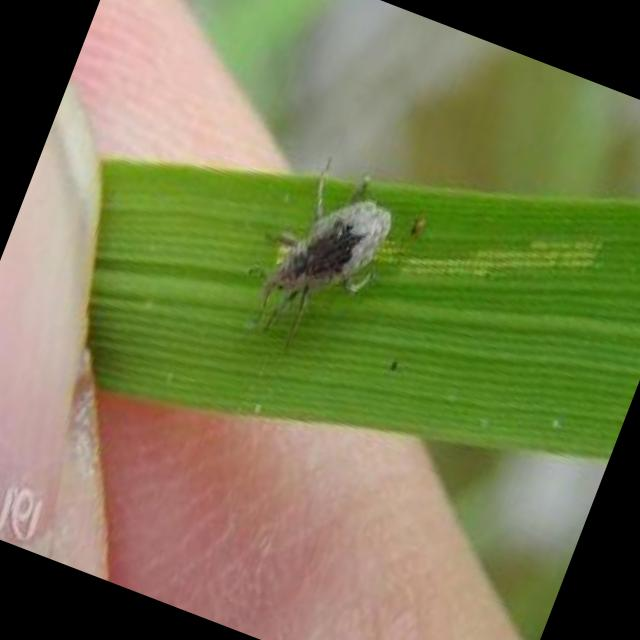rice-bug: (244, 158, 405, 362)
